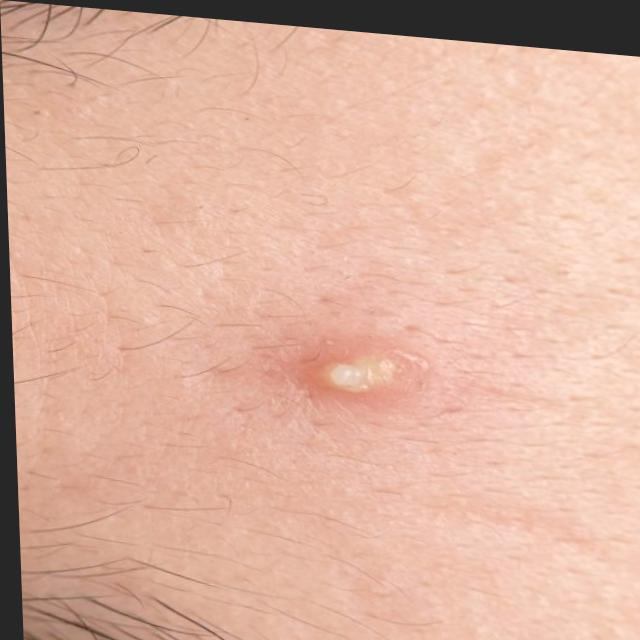pustule: (240, 304, 454, 443)
